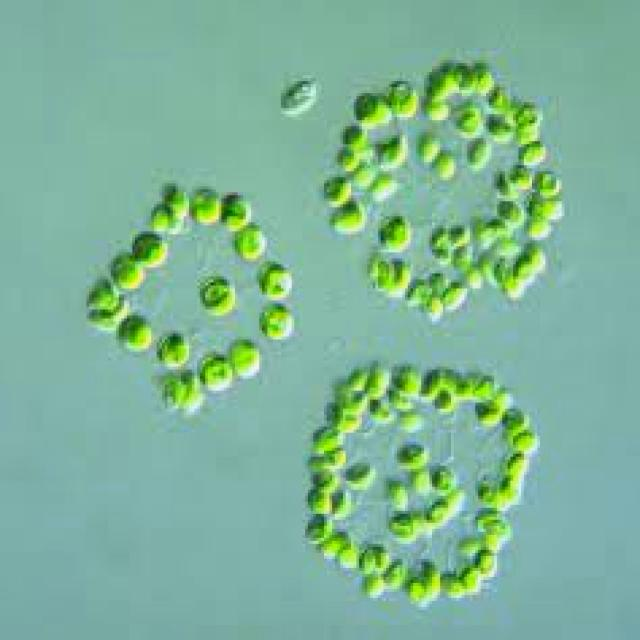Green Algae: (375, 208, 416, 252), (114, 312, 156, 354), (254, 258, 294, 300), (156, 328, 194, 370), (195, 276, 238, 312), (324, 202, 367, 238), (254, 304, 294, 342), (197, 352, 232, 394), (84, 282, 127, 316), (227, 339, 264, 378), (216, 184, 248, 228), (108, 256, 146, 292), (386, 78, 416, 123), (130, 232, 170, 264), (381, 255, 408, 298), (497, 192, 526, 232), (465, 132, 494, 171), (383, 126, 408, 171), (159, 376, 189, 412), (351, 87, 381, 123), (316, 174, 351, 204), (389, 364, 418, 399), (311, 424, 348, 451), (232, 232, 265, 262), (394, 442, 432, 468), (194, 187, 219, 226), (418, 123, 443, 162), (510, 99, 546, 126), (497, 402, 529, 430), (424, 63, 451, 96), (467, 60, 494, 93), (364, 367, 389, 402), (418, 364, 443, 399), (443, 280, 470, 312), (362, 565, 386, 601), (300, 514, 332, 541), (478, 514, 510, 541), (451, 370, 478, 402), (510, 426, 543, 451), (386, 511, 413, 541), (440, 574, 467, 604), (359, 544, 389, 571), (305, 481, 332, 511), (346, 462, 378, 487), (519, 138, 548, 165), (481, 114, 513, 138), (497, 472, 524, 499), (422, 96, 448, 123), (386, 559, 405, 595), (418, 577, 443, 604), (165, 184, 186, 216), (424, 499, 448, 526), (462, 565, 481, 598), (475, 402, 500, 427), (475, 550, 500, 574), (332, 484, 354, 511), (343, 123, 370, 144), (324, 532, 346, 556), (448, 222, 470, 244), (426, 270, 446, 294)
